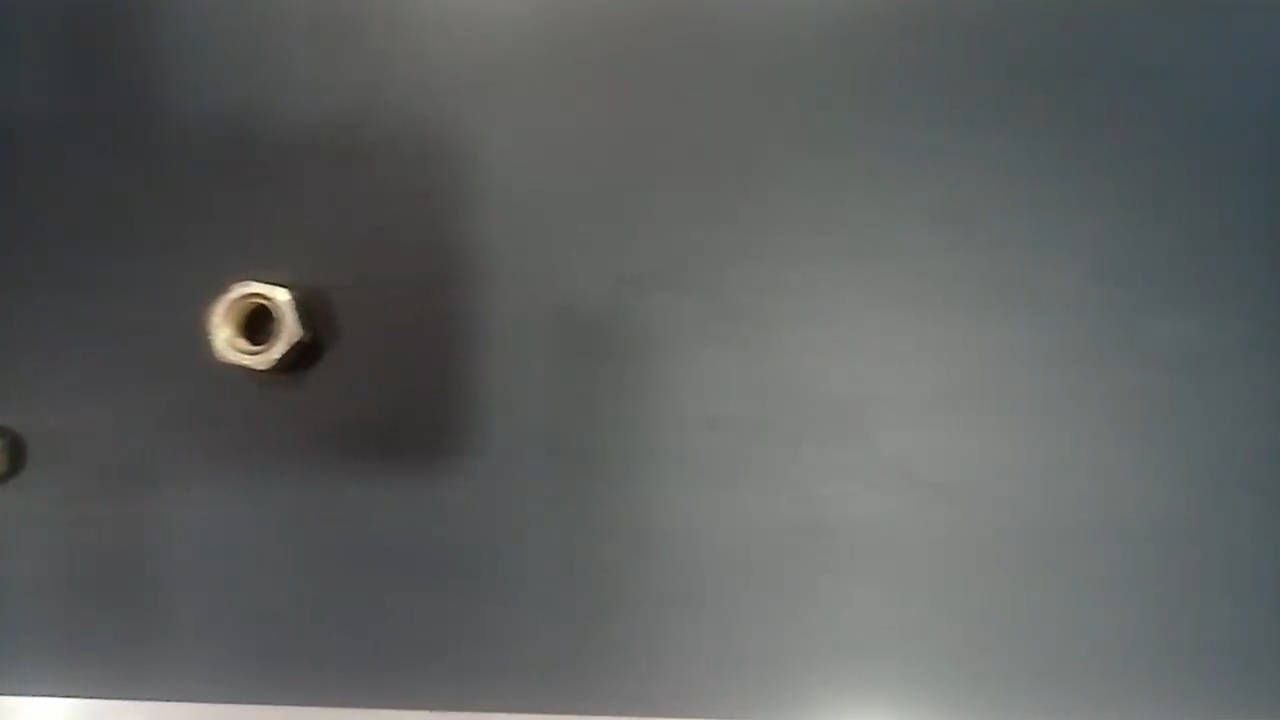Bolt: (203, 277, 309, 377)
